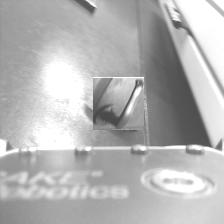Door Handle: (92, 78, 145, 130)
